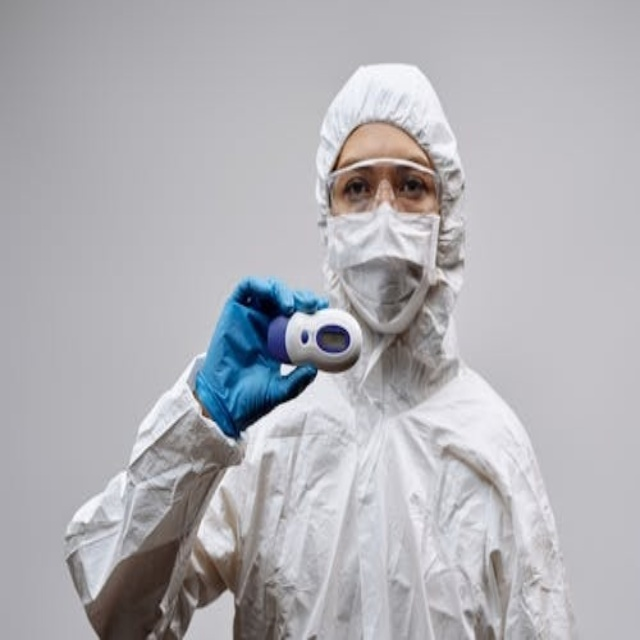Gafas: (326, 159, 440, 217)
Guantes: (194, 275, 329, 441)
Mascara: (324, 193, 441, 332)
